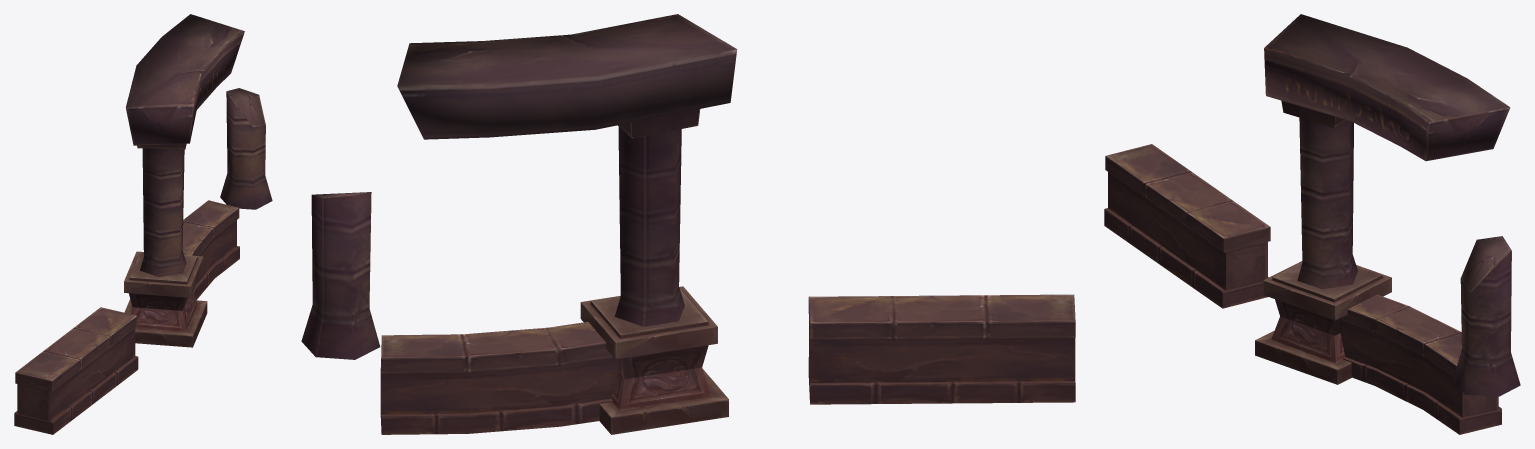
File: FB6_rongyanzhuzi01.FBX
The picture shows the model from 3 angles, left to right: view 1: azimuth 30°, elevation 25°; view 2: azimuth 150°, elevation 25°; view 3: azimuth 270°, elevation 25°; orthographic projection. The views are drawn at different scales.
Visible parts, largest first — view 1: FB6_rongyanzhuzi01_001, FB6_rongyanzhuzi01_007, FB6_rongyanzhuzi01_002, FB6_rongyanzhuzi01_004, FB6_rongyanzhuzi01_005, FB6_rongyanzhuzi01_003; view 2: FB6_rongyanzhuzi01_007, FB6_rongyanzhuzi01_001, FB6_rongyanzhuzi01_003, FB6_rongyanzhuzi01_002, FB6_rongyanzhuzi01_004, FB6_rongyanzhuzi01_005, FB6_rongyanzhuzi01_006; view 3: FB6_rongyanzhuzi01_007, FB6_rongyanzhuzi01_001, FB6_rongyanzhuzi01_003, FB6_rongyanzhuzi01_004, FB6_rongyanzhuzi01_002, FB6_rongyanzhuzi01_005, FB6_rongyanzhuzi01_006.
Part boxes in pixels (x1,y1,x2,y2): FB6_rongyanzhuzi01_001: [14, 307, 138, 434]; FB6_rongyanzhuzi01_007: [125, 14, 244, 145]; FB6_rongyanzhuzi01_002: [124, 251, 207, 347]; FB6_rongyanzhuzi01_004: [140, 148, 186, 277]; FB6_rongyanzhuzi01_005: [220, 88, 272, 209]; FB6_rongyanzhuzi01_003: [182, 200, 239, 300]; FB6_rongyanzhuzi01_007: [397, 14, 737, 139]; FB6_rongyanzhuzi01_001: [808, 294, 1075, 404]; FB6_rongyanzhuzi01_003: [380, 322, 617, 434]; FB6_rongyanzhuzi01_002: [580, 286, 728, 434]; FB6_rongyanzhuzi01_004: [614, 127, 684, 326]; FB6_rongyanzhuzi01_005: [301, 192, 380, 359]; FB6_rongyanzhuzi01_006: [618, 109, 700, 138]; FB6_rongyanzhuzi01_007: [1264, 14, 1510, 161]; FB6_rongyanzhuzi01_001: [1104, 144, 1270, 308]; FB6_rongyanzhuzi01_003: [1340, 294, 1501, 434]; FB6_rongyanzhuzi01_004: [1297, 117, 1357, 289]; FB6_rongyanzhuzi01_002: [1255, 261, 1391, 384]; FB6_rongyanzhuzi01_005: [1452, 236, 1520, 396]; FB6_rongyanzhuzi01_006: [1281, 100, 1347, 127].
Size of the model in its own units: 917 by 549 by 668.
Materials: 1 (1 with a texture image).
